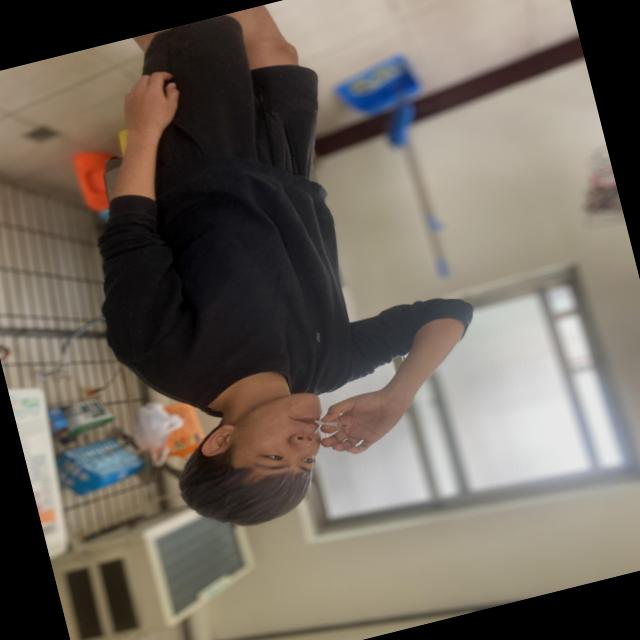smoke: (300, 399, 356, 442)
